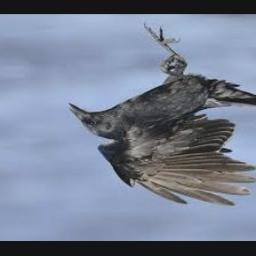Crow: (66, 19, 256, 206)
